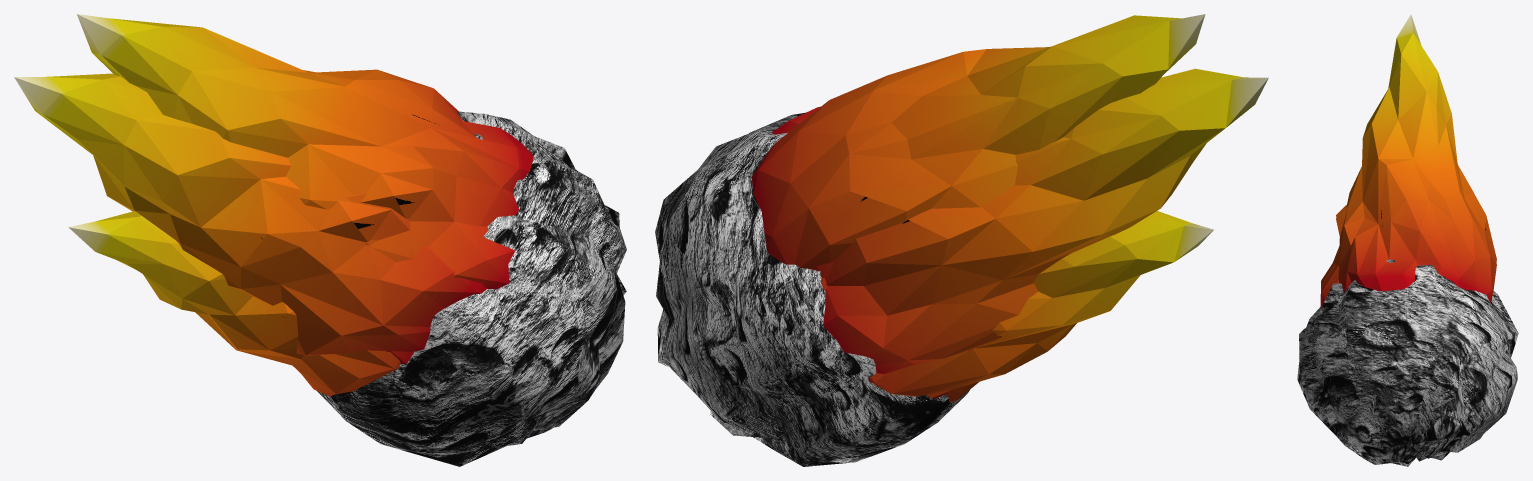
The model's file is meteorito.fbx.
3 renders of one model, left to right at view 1: azimuth 30°, elevation 25°; view 2: azimuth 150°, elevation 25°; view 3: azimuth 270°, elevation 25°, orthographic. The views are drawn at different scales.
Visible parts, largest first — view 1: Meteorito; view 2: Meteorito; view 3: Meteorito.
Part boxes in pixels (x1,y1,x2,y2): Meteorito: (14,14,626,466); Meteorito: (655,14,1268,466); Meteorito: (1297,14,1518,466).
Bounding box in the file's own units: 1862 × 1561 × 965.
Materials: 2 (2 with a texture image).
